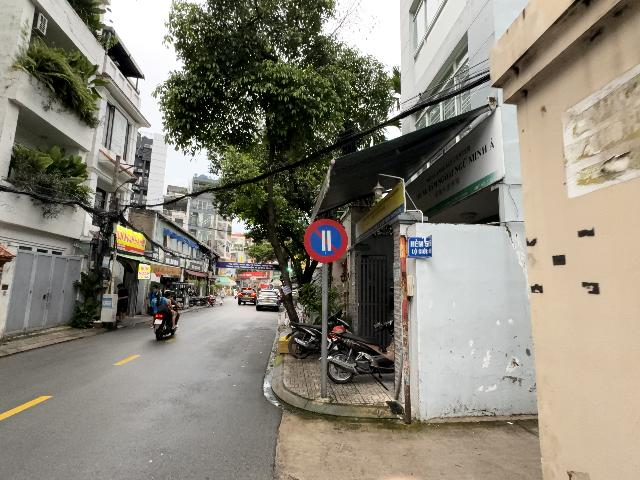cam-do-xe-ngay-chan: (304, 218, 348, 263)
